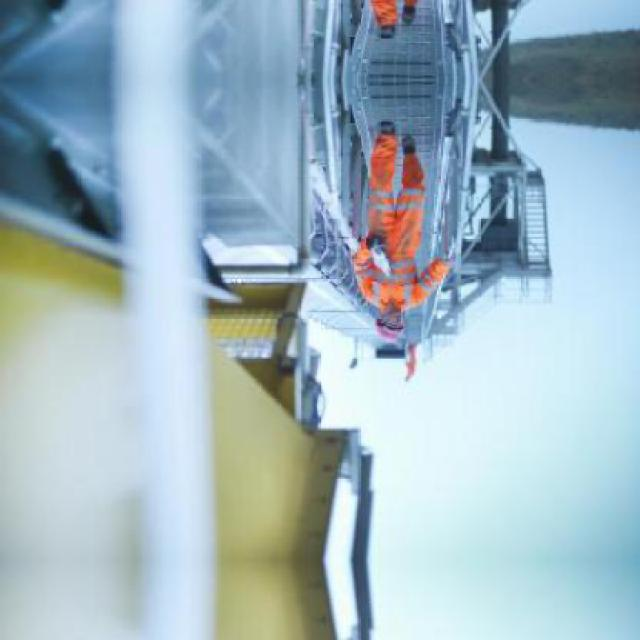con casco: (335, 285, 427, 359)
